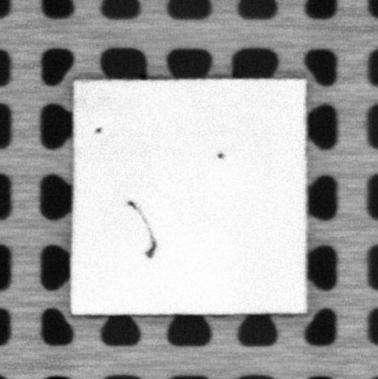DIE_INK: (127, 200, 158, 259), (92, 124, 104, 135), (215, 149, 225, 160)
